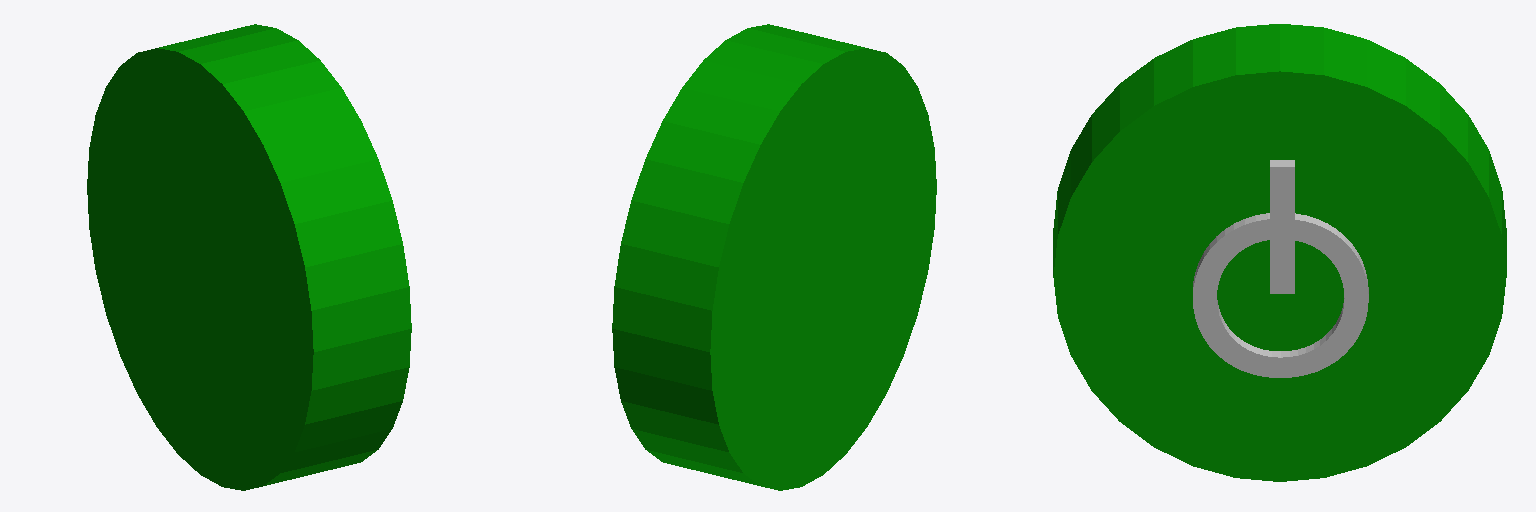
Rendered from onoff.obj.
3 renders of one model, left to right at view 1: azimuth 30°, elevation 25°; view 2: azimuth 150°, elevation 25°; view 3: azimuth 270°, elevation 25°, orthographic.
Parts seen in each view (by area): view 1: Cylinder; view 2: Cylinder; view 3: Cylinder, Text_Text.002, Text.001_Text.003.
Boxes of the visible parts, x1=… form: Cylinder: x1=87, y1=24, x2=411, y2=490; Cylinder: x1=612, y1=24, x2=936, y2=490; Cylinder: x1=1053, y1=24, x2=1506, y2=481; Text_Text.002: x1=1193, y1=213, x2=1368, y2=377; Text.001_Text.003: x1=1270, y1=160, x2=1294, y2=293.
Bounding box in the file's own units: 0.567 × 2 × 2.